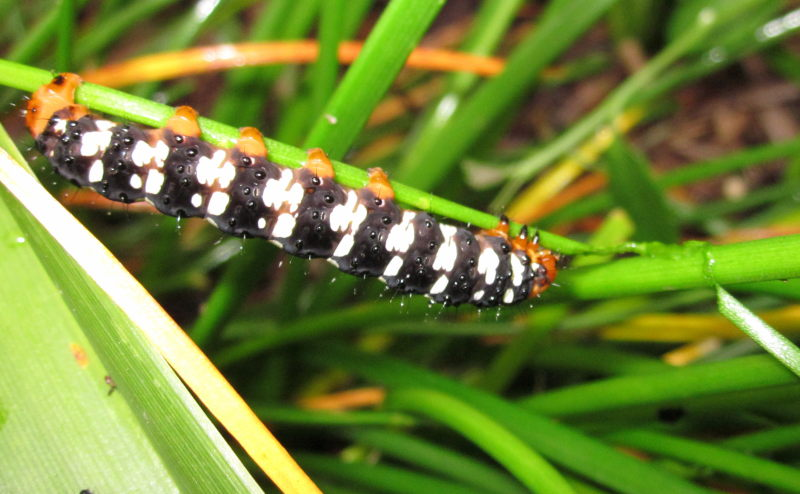Armyworm: (16, 70, 566, 336)
